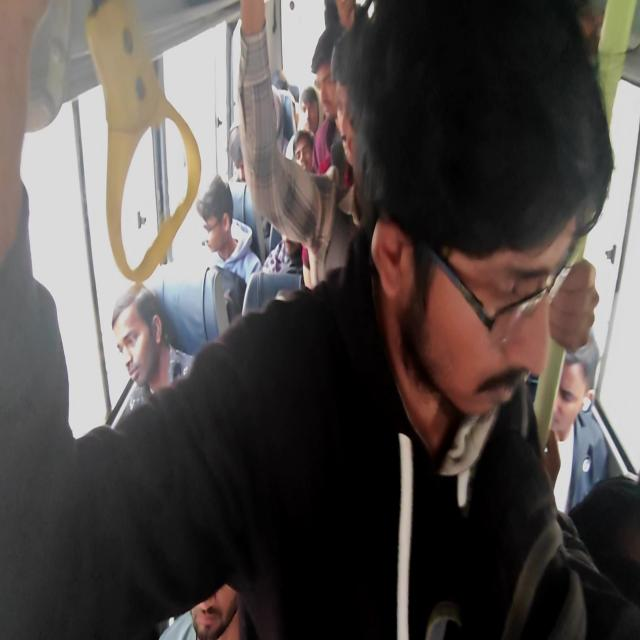person: (403, 215, 568, 431), (331, 5, 384, 226), (115, 302, 156, 393), (196, 176, 234, 256), (312, 34, 336, 117), (194, 599, 236, 640), (576, 0, 605, 56), (227, 125, 246, 185), (293, 128, 315, 172), (283, 236, 301, 252)
